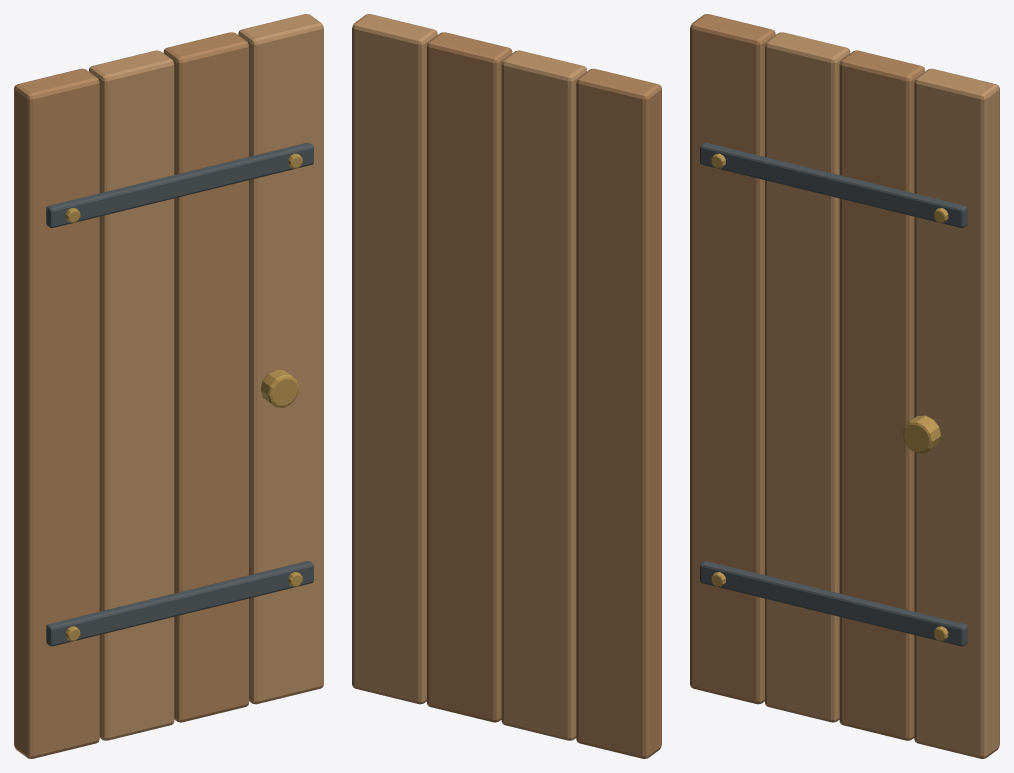
Rendered from door_oak.glb.
3 views of the same model, side by side, from view 1: azimuth 30°, elevation 25°; view 2: azimuth 150°, elevation 25°; view 3: azimuth 330°, elevation 25° (orthographic).
Visible parts, largest first — view 1: door_oak; view 2: door_oak; view 3: door_oak.
Boxes of the visible parts, x1,y1,x2,y2 form: door_oak: (14,14,323,758); door_oak: (352,14,661,758); door_oak: (690,14,999,758).
Bounding box in the file's own units: 0.853 × 1.83 × 0.1525.
